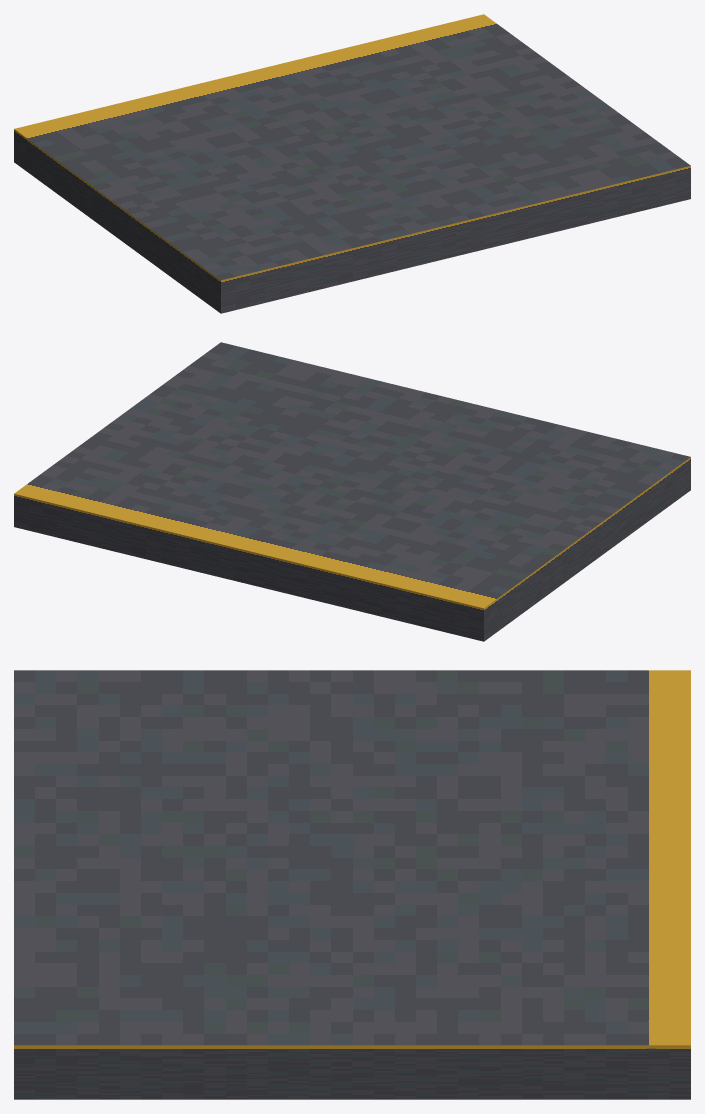
Rendered from Display_Pad_001_Normal.fbx.
The picture shows the model from 3 angles, top to bottom: view 1: azimuth 30°, elevation 25°; view 2: azimuth 150°, elevation 25°; view 3: azimuth 270°, elevation 25°; orthographic projection. The views are drawn at different scales.
Parts seen in each view (by area): view 1: Display_Pad_001.001; view 2: Display_Pad_001.001; view 3: Display_Pad_001.001.
Part boxes in pixels (x1,y1,x2,y2): Display_Pad_001.001: [14, 14, 690, 313]; Display_Pad_001.001: [14, 342, 690, 641]; Display_Pad_001.001: [14, 670, 690, 1099].
Size of the model in its own units: 118 by 8 by 90.
